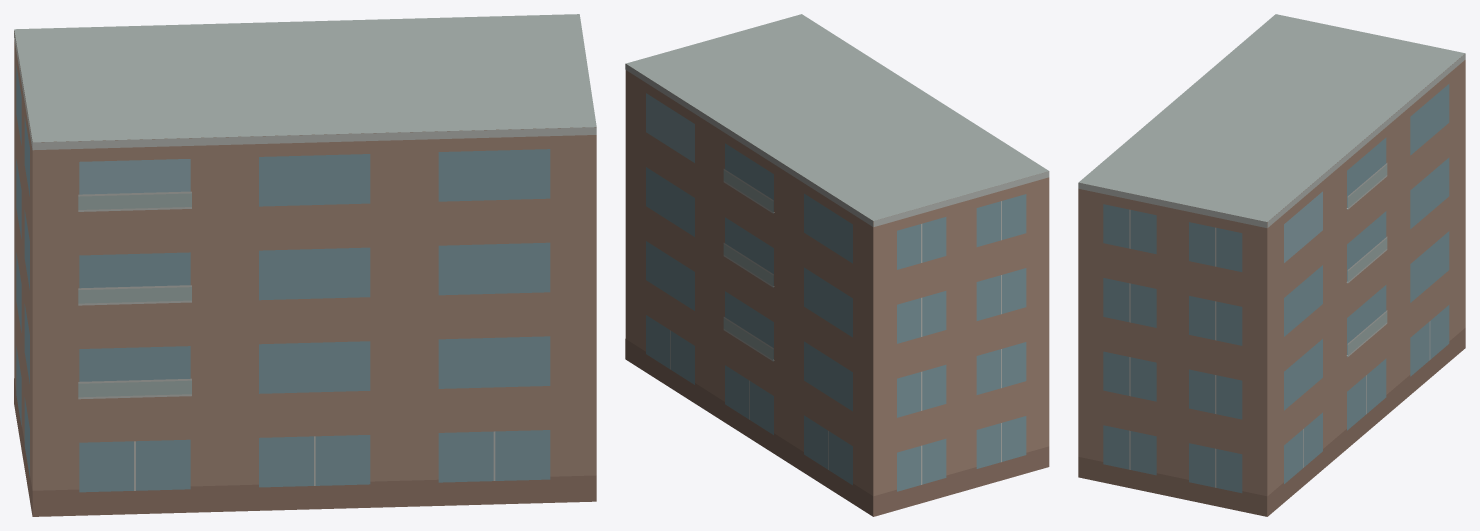
File: survey-upis-32888313.glb
3 views of the same model, side by side, from view 1: azimuth 30°, elevation 25°; view 2: azimuth 150°, elevation 25°; view 3: azimuth 270°, elevation 25° (orthographic). The views are drawn at different scales.
Parts seen in each view (by area): view 1: survey-upis-32888313.tmp; view 2: survey-upis-32888313.tmp; view 3: survey-upis-32888313.tmp.
Part boxes in pixels (left/top/right/bottom): survey-upis-32888313.tmp: left=14, top=14, right=596, bottom=516; survey-upis-32888313.tmp: left=625, top=14, right=1049, bottom=516; survey-upis-32888313.tmp: left=1078, top=14, right=1465, bottom=516.
Bounding box in the file's own units: 17.65 × 11.65 × 13.88.
